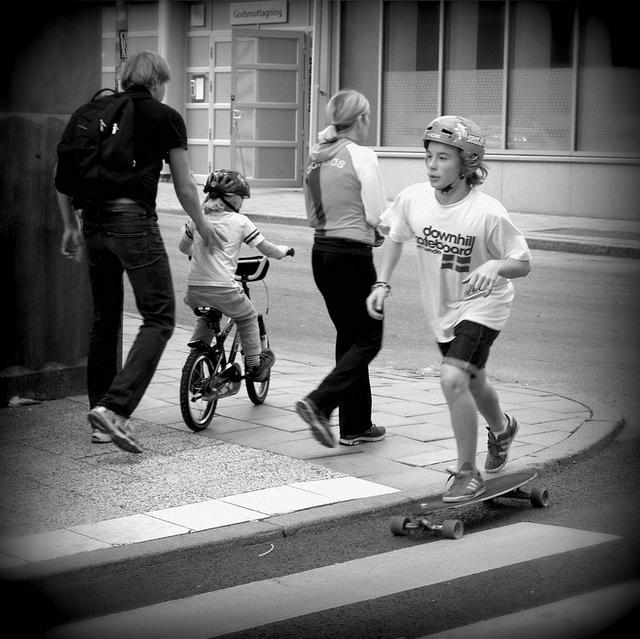bicycle: (182, 259, 274, 431)
